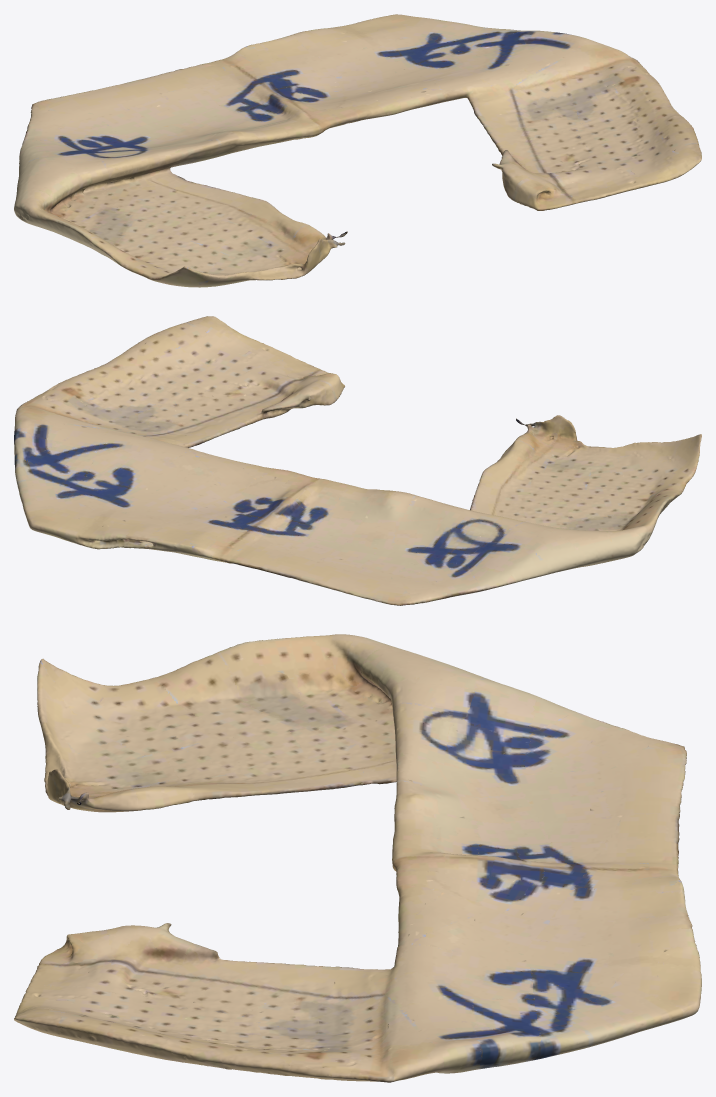
The model's file is Senninbari Belt.glb.
3 views of the same model, one above another, from view 1: azimuth 30°, elevation 25°; view 2: azimuth 150°, elevation 25°; view 3: azimuth 270°, elevation 25° (orthographic). The views are drawn at different scales.
Bounding box in the file's own units: 2 × 0.134 × 1.36.
1 material, 1 textured.
